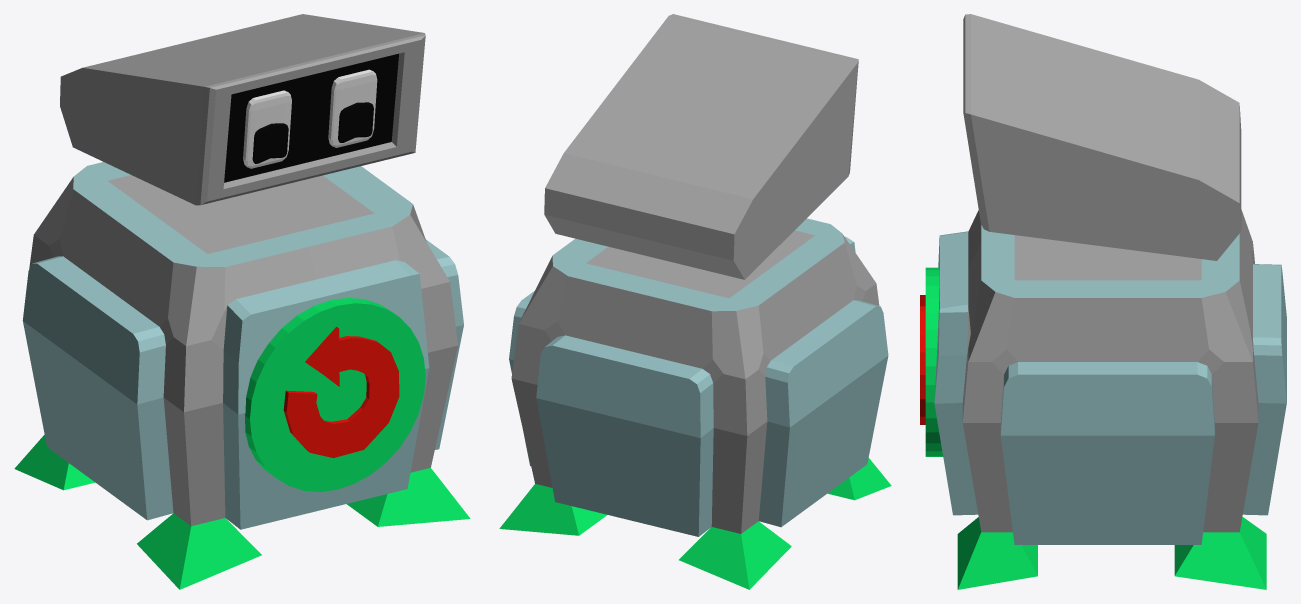
File: bot4.fbx
3 renders of one model, left to right at view 1: azimuth 30°, elevation 25°; view 2: azimuth 150°, elevation 25°; view 3: azimuth 270°, elevation 25°, orthographic. The views are drawn at different scales.
Visible parts, largest first — view 1: Cube.020; view 2: Cube.020; view 3: Cube.020.
Part boxes in pixels (x1,y1,x2,y2): Cube.020: (14,14,470,589); Cube.020: (499,14,891,589); Cube.020: (920,14,1286,589).
Bounding box in the file's own units: 339 × 486 × 352.
